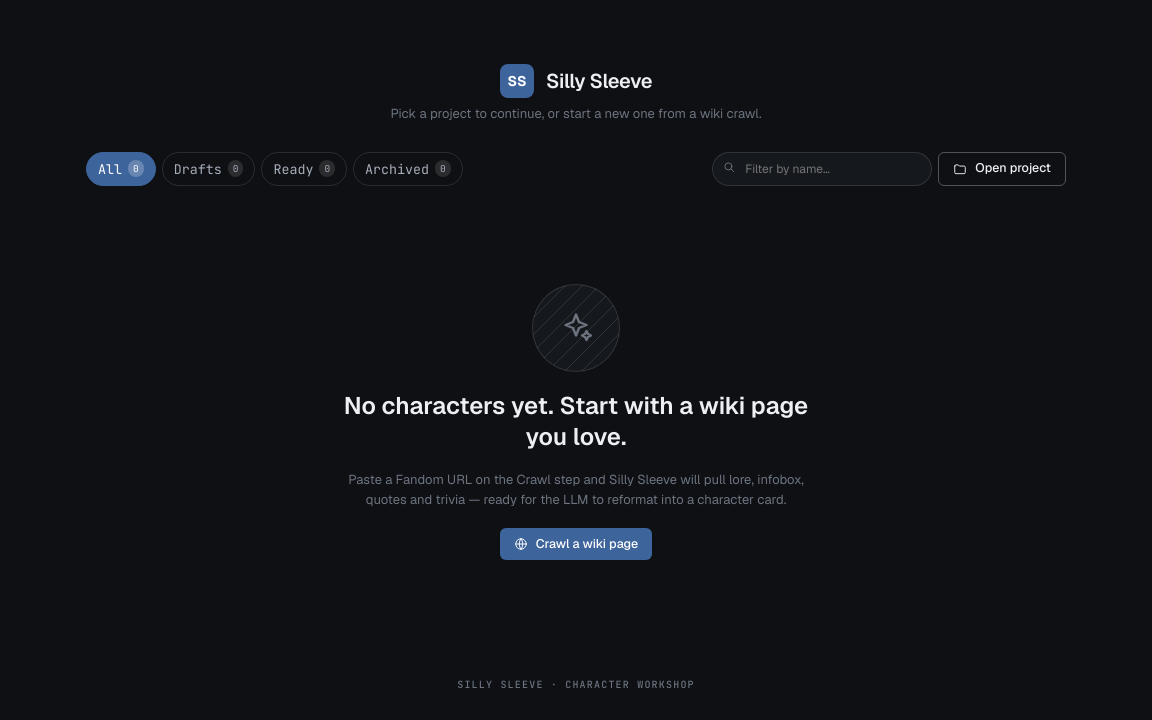
Test case: App › returns to the picker via the brand button
Expected: the heading "No characters yet. Start with a wiki page you love." is shown, top-left (336, 390), bottom-right (816, 452)
What coordinates should you click on to do the following:
click the button "Crawl a wiki page"
I would click on:
 (576, 544)
Its box is top-left (500, 528), bottom-right (652, 560).
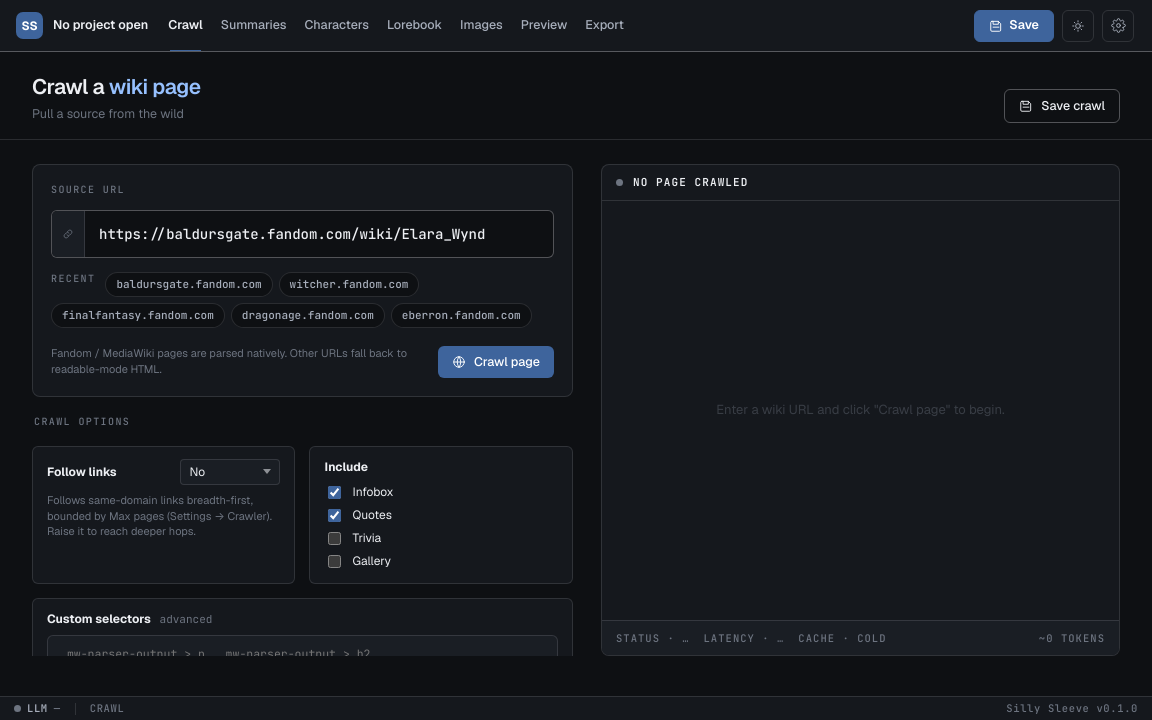
Now the tab "Crawl" is shown, box top-left (160, 0), bottom-right (211, 51)
What coordinates should you click on to do the following:
click the button titled "All projects"
I would click on:
 (82, 26)
Its box is top-left (16, 0), bottom-right (148, 51).
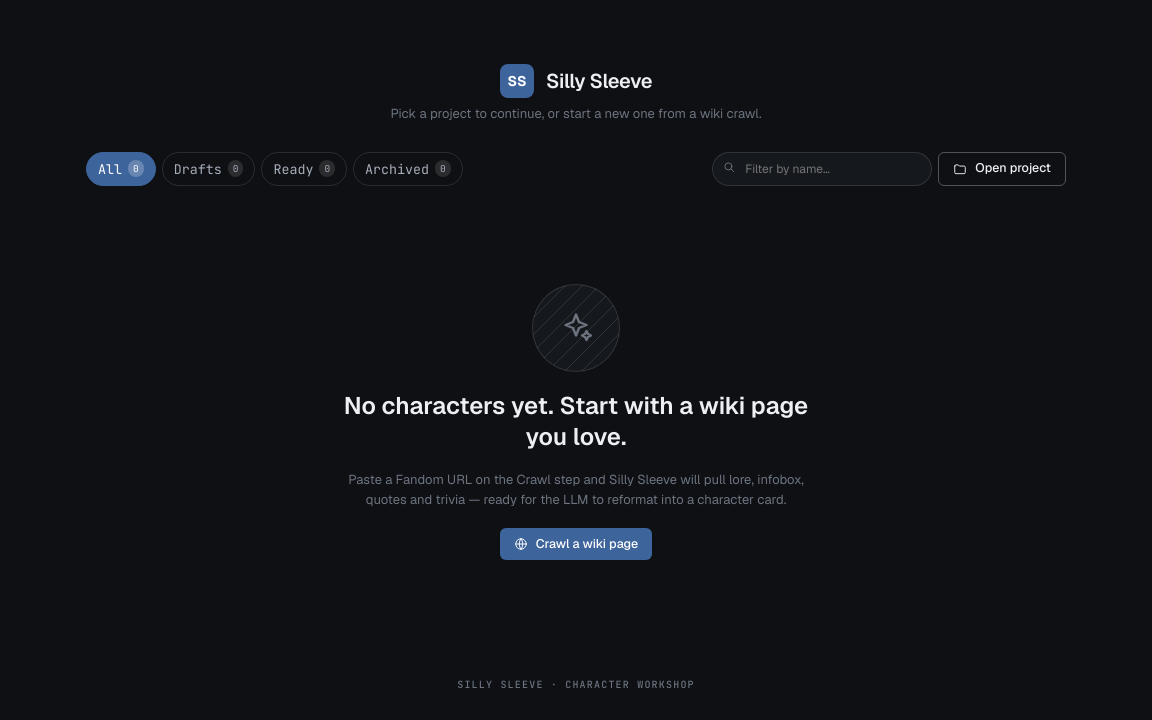
Now the element that starts with "Silly Sleeve" is shown
